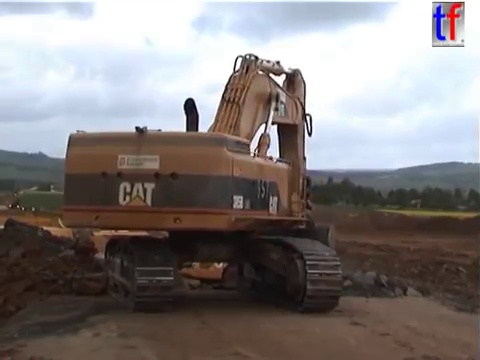excavator: (57, 50, 347, 315)
truck: (1, 219, 149, 334), (176, 227, 318, 296), (83, 225, 184, 309)
